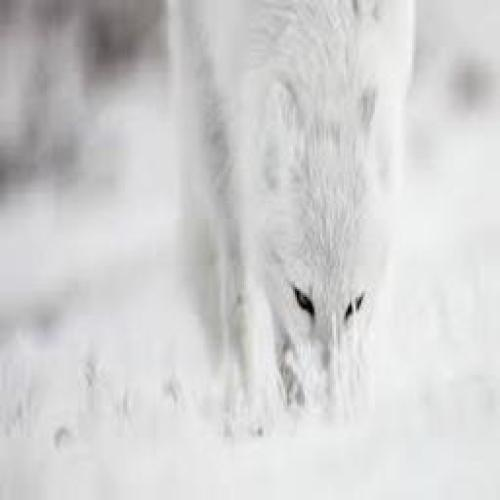arctic_fox-endangered: (145, 0, 448, 457)
